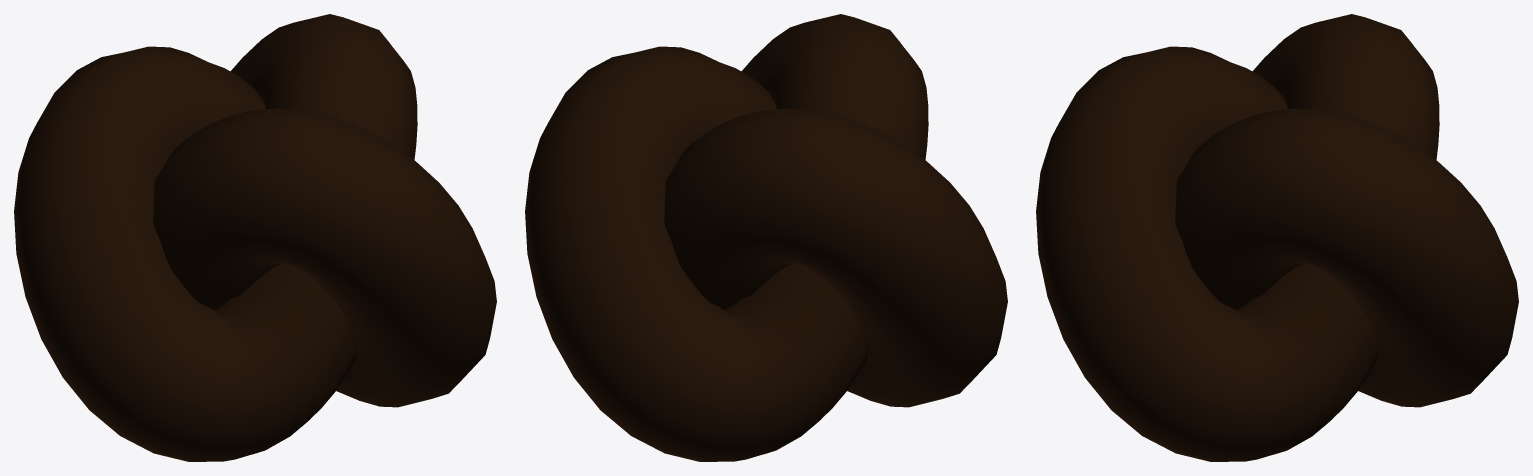
File: KnotModel.FBX
The picture shows the model from 3 angles, left to right: view 1: azimuth 30°, elevation 25°; view 2: azimuth 150°, elevation 25°; view 3: azimuth 270°, elevation 25°; orthographic projection.
Parts seen in each view (by area): view 1: Torus Knot001; view 2: Torus Knot001; view 3: Torus Knot001.
Part boxes in pixels (x1,y1,x2,y2): Torus Knot001: (14,14,496,461); Torus Knot001: (525,14,1007,461); Torus Knot001: (1036,14,1518,461).
Size of the model in its own units: 27.26 by 22.19 by 28.76.
